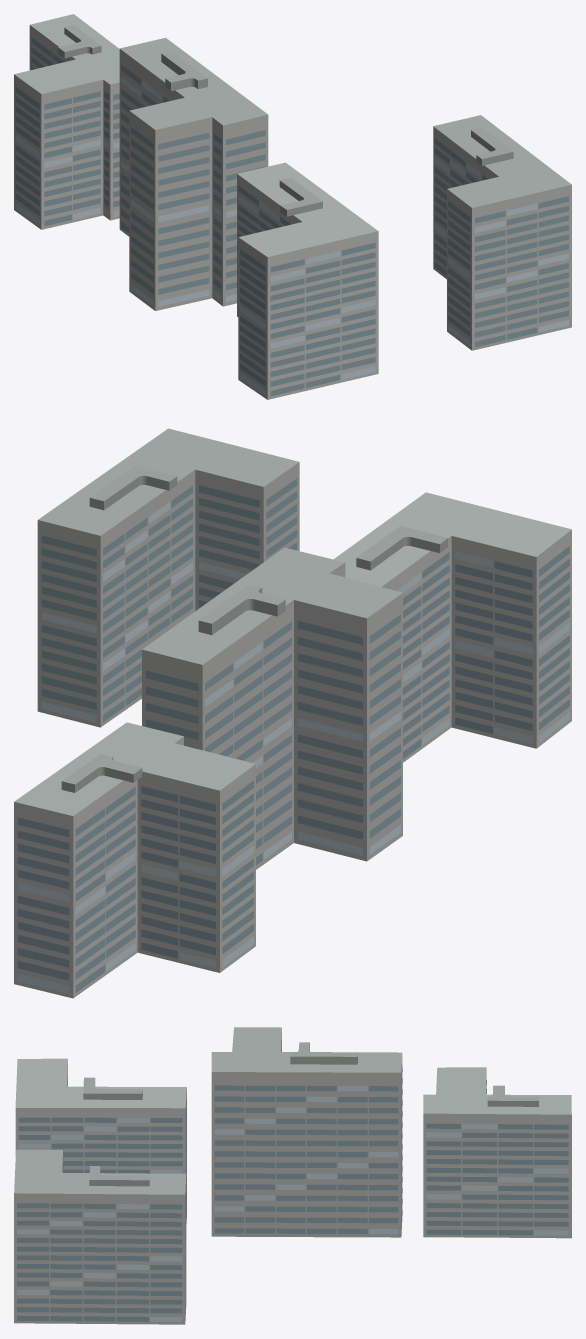
The model's file is apt-a13272102.glb.
3 views of the same model, one above another, from view 1: azimuth 30°, elevation 25°; view 2: azimuth 150°, elevation 25°; view 3: azimuth 270°, elevation 25° (orthographic). The views are drawn at different scales.
Visible parts, largest first — view 1: apt-a13272102; view 2: apt-a13272102; view 3: apt-a13272102.
Part boxes in pixels (x1,y1,x2,y2): apt-a13272102: [14, 14, 571, 399]; apt-a13272102: [14, 428, 571, 998]; apt-a13272102: [14, 1027, 571, 1324].
Bounding box in the file's own units: 88.15 × 52 × 152.
